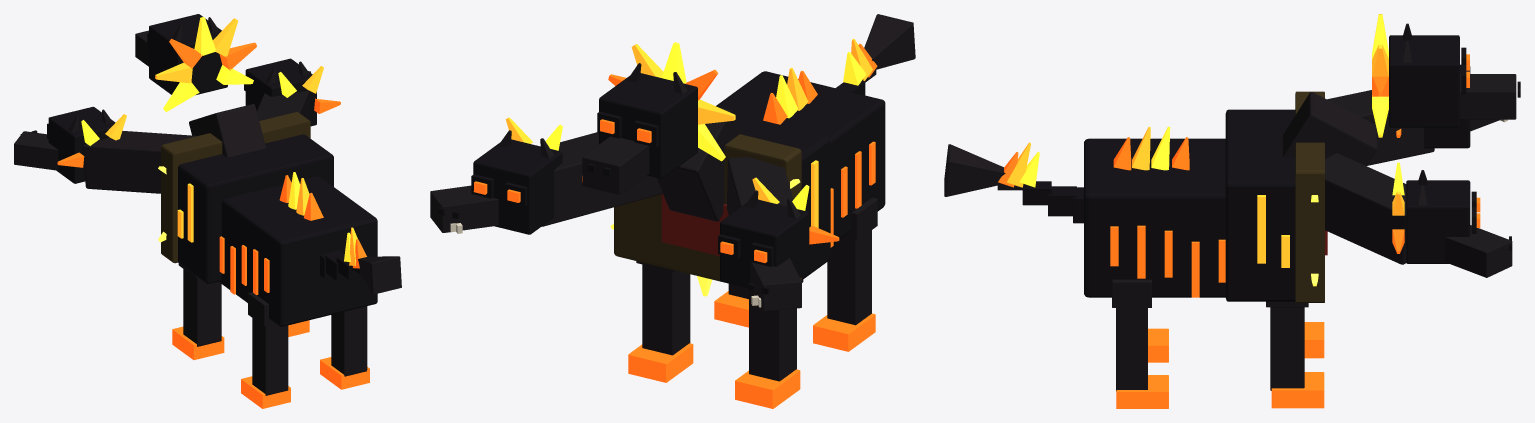
Rendered from cerberus.glb.
3 views of the same model, side by side, from view 1: azimuth 30°, elevation 25°; view 2: azimuth 150°, elevation 25°; view 3: azimuth 270°, elevation 25° (orthographic). The views are drawn at different scales.
Visible parts, largest first — view 1: body, head, ear.R, leg.BR, leg.FR, leg.BL, ear.L, tail; view 2: body, head, ear.L, ear.R, leg.BR, leg.FL, leg.FR, tail, leg.BL; view 3: body, head, ear.L, tail, leg.BL, leg.FL, ear.R, leg.FR, leg.BR.
Boxes of the visible parts, x1=… form: body: x1=82, y1=90, x2=377, y2=326; head: x1=135, y1=14, x2=256, y2=111; ear.R: x1=14, y1=106, x2=126, y2=183; leg.BR: x1=241, y1=292, x2=290, y2=408; leg.FR: x1=172, y1=263, x2=224, y2=359; leg.BL: x1=320, y1=306, x2=369, y2=389; ear.L: x1=244, y1=58, x2=340, y2=126; tail: x1=320, y1=227, x2=401, y2=294; body: x1=541, y1=67, x2=885, y2=296; head: x1=582, y1=42, x2=735, y2=194; ear.L: x1=430, y1=117, x2=582, y2=234; ear.R: x1=718, y1=177, x2=839, y2=311; leg.BR: x1=813, y1=197, x2=877, y2=351; leg.FL: x1=628, y1=261, x2=693, y2=382; leg.FR: x1=735, y1=280, x2=803, y2=408; tail: x1=836, y1=14, x2=915, y2=95; leg.BL: x1=714, y1=283, x2=748, y2=327; body: x1=1084, y1=90, x2=1434, y2=302; head: x1=1372, y1=14, x2=1520, y2=137; ear.L: x1=1392, y1=162, x2=1512, y2=277; tail: x1=944, y1=142, x2=1083, y2=223; leg.BL: x1=1112, y1=279, x2=1168, y2=408; leg.FL: x1=1266, y1=301, x2=1324, y2=408; ear.R: x1=1396, y1=64, x2=1507, y2=148; leg.FR: x1=1304, y1=322, x2=1324, y2=358; leg.BR: x1=1148, y1=328, x2=1168, y2=362.
Bounding box in the file's own units: 1.04 × 1 × 1.45.
